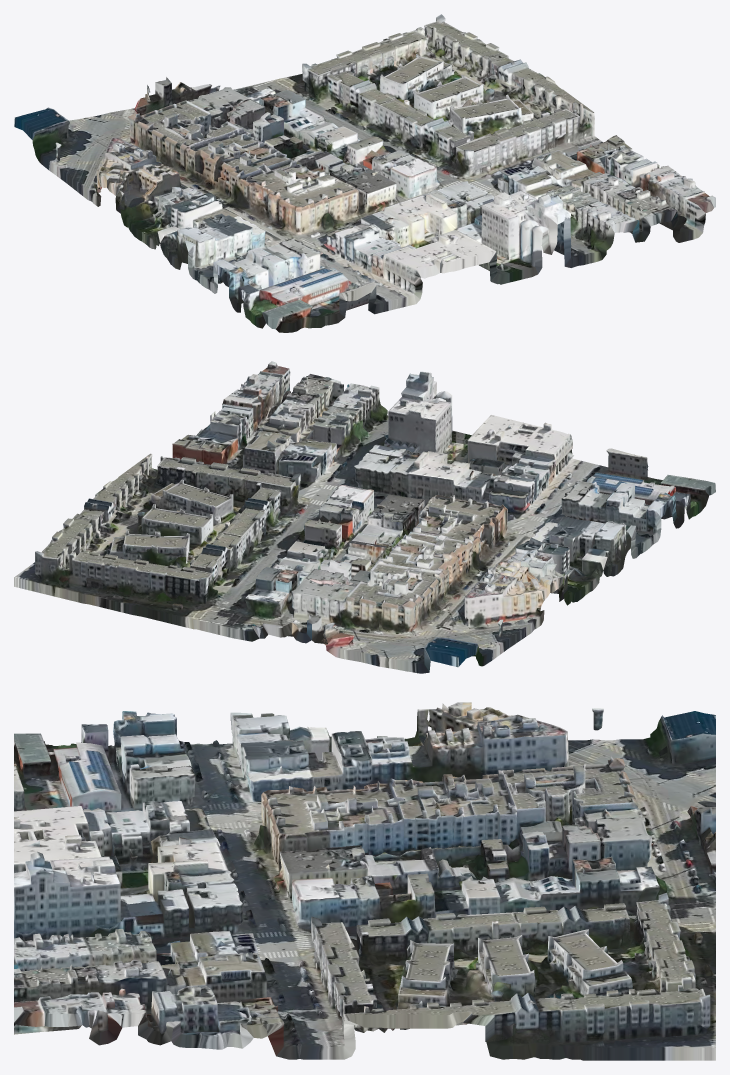
The model's file is z17-20966-50648-h0-yup-uvflip-v3-world.glb.
3 renders of one model, top to bottom at view 1: azimuth 30°, elevation 25°; view 2: azimuth 150°, elevation 25°; view 3: azimuth 270°, elevation 25°, orthographic. The views are drawn at different scales.
Size of the model in its own units: 242 by 37.44 by 243.
Materials: 1 (1 with a texture image).
